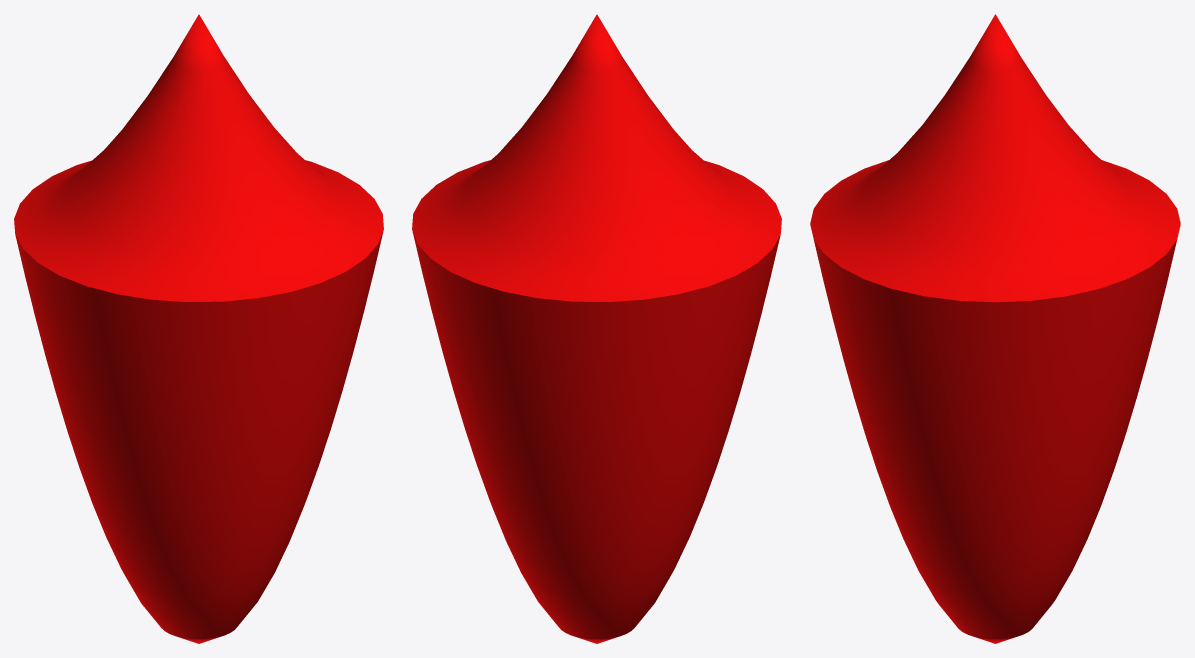
The model's file is Chanterelle_Growth.glb.
3 renders of one model, left to right at view 1: azimuth 30°, elevation 25°; view 2: azimuth 150°, elevation 25°; view 3: azimuth 270°, elevation 25°, orthographic.
Parts seen in each view (by area): view 1: Chanterelle; view 2: Chanterelle; view 3: Chanterelle.
Part boxes in pixels (left/top/right/bottom): Chanterelle: left=14, top=14, right=383, bottom=643; Chanterelle: left=412, top=14, right=781, bottom=643; Chanterelle: left=810, top=14, right=1180, bottom=643.
Size of the model in its own units: 0.008 by 0.015 by 0.008.
